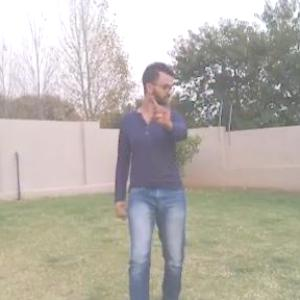takeoff-hand: (149, 94, 175, 129)
